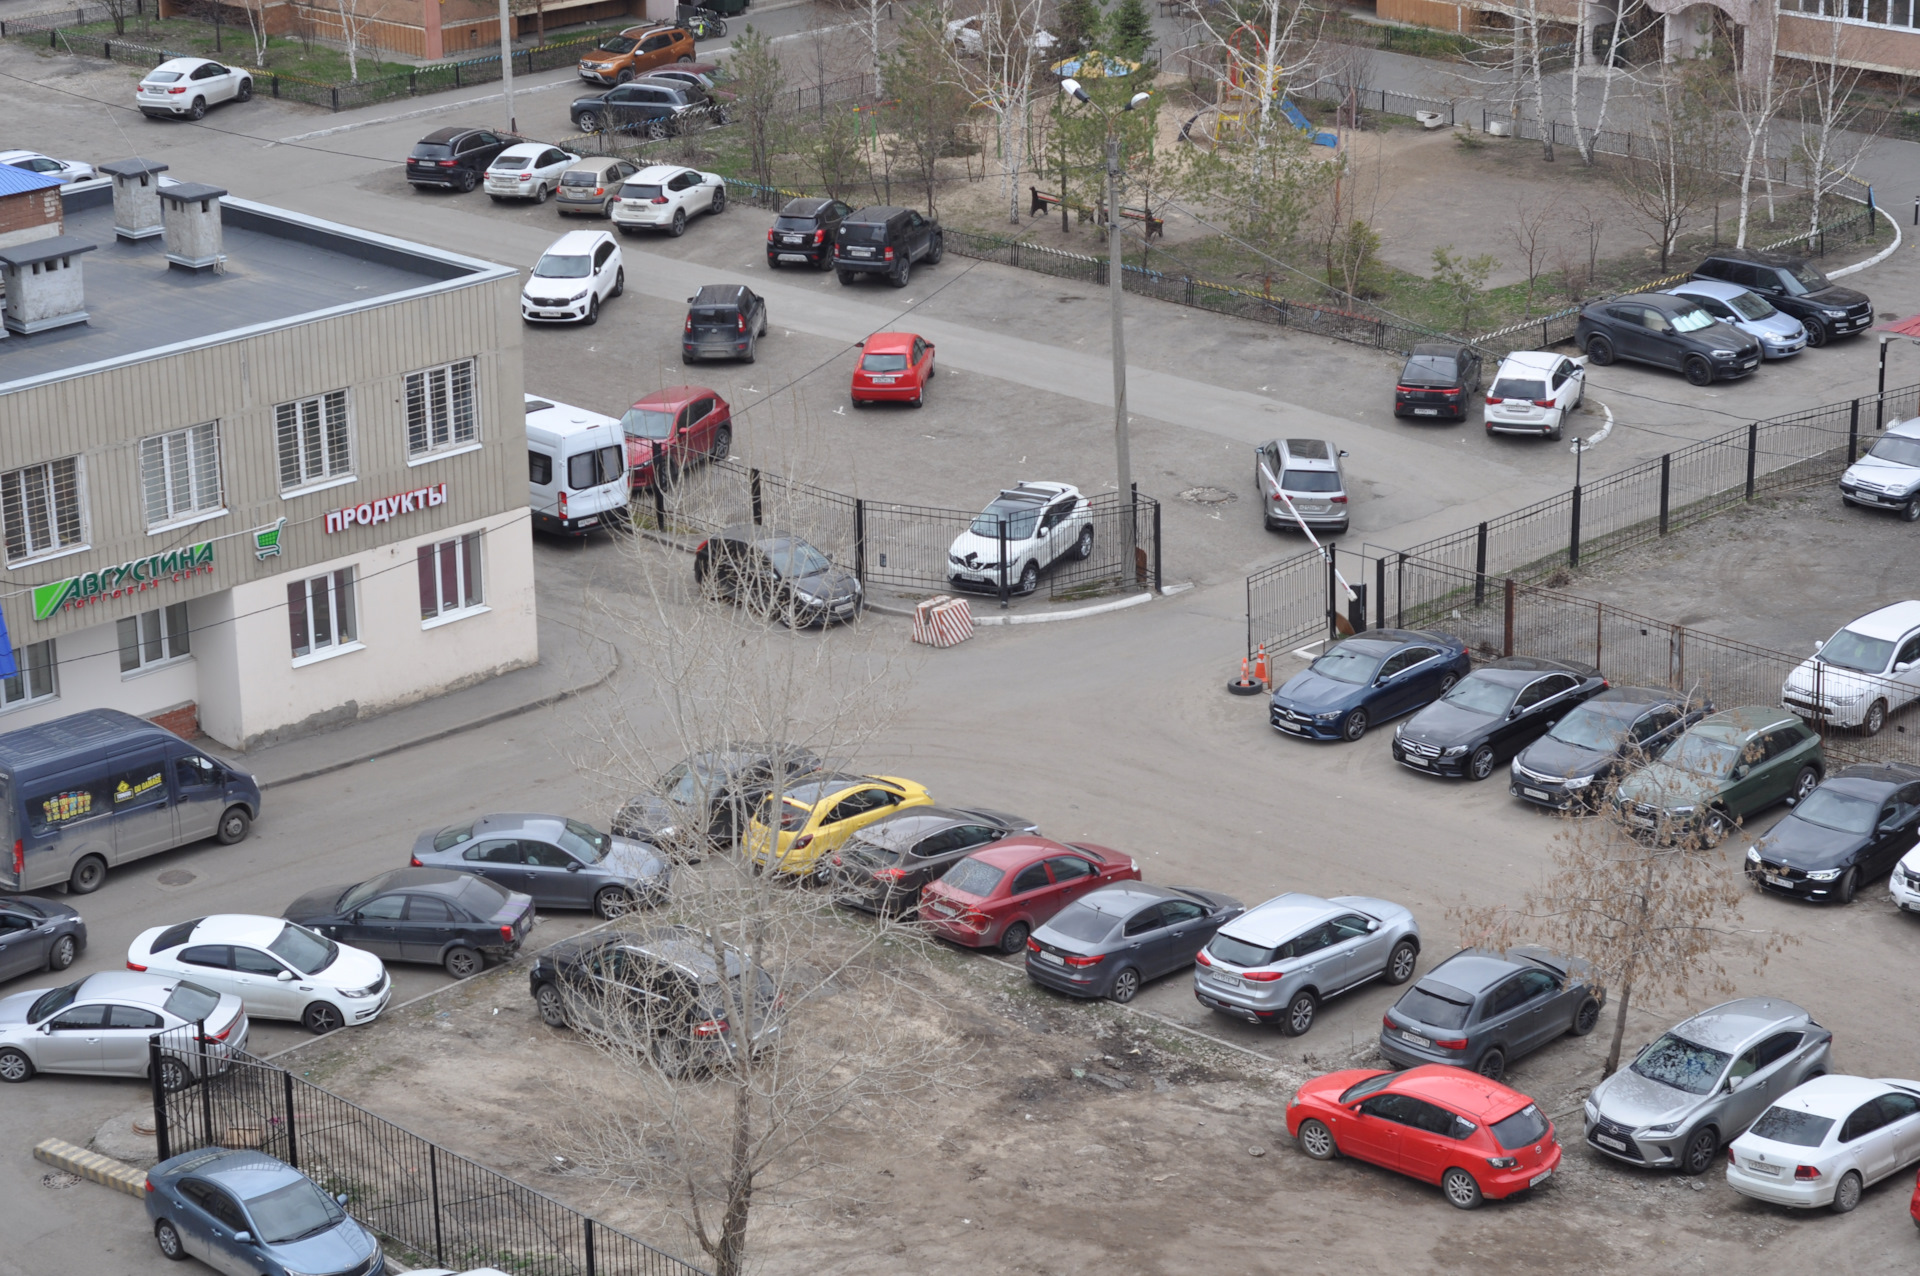Car: (0, 709, 261, 893), (1584, 997, 1831, 1174), (1286, 1067, 1562, 1209), (529, 924, 783, 1075), (1194, 893, 1422, 1036), (125, 914, 391, 1033), (146, 1148, 384, 1276), (0, 972, 249, 1091), (1380, 947, 1606, 1078), (284, 859, 533, 977), (1617, 706, 1826, 846), (409, 813, 670, 918), (1392, 656, 1609, 780), (1025, 880, 1243, 1003), (1727, 1075, 1920, 1212), (920, 836, 1140, 954), (1509, 686, 1711, 812), (1744, 763, 1920, 902), (613, 742, 822, 859), (828, 805, 1037, 916), (1267, 629, 1470, 741), (745, 773, 931, 876), (1781, 600, 1920, 737), (941, 480, 1096, 596), (692, 526, 865, 627), (1693, 250, 1873, 345), (1577, 295, 1760, 385), (524, 395, 630, 534), (623, 385, 733, 490), (1667, 280, 1809, 359), (520, 230, 626, 323), (1484, 350, 1587, 439), (1254, 437, 1350, 532), (834, 206, 944, 286), (571, 79, 716, 138), (1840, 417, 1920, 520), (630, 63, 764, 123), (613, 165, 727, 235), (0, 894, 89, 983), (405, 126, 523, 191), (136, 56, 255, 119), (1394, 338, 1484, 419), (578, 24, 696, 84), (681, 283, 768, 362), (850, 332, 936, 407), (765, 198, 851, 270), (943, 13, 1062, 63), (484, 142, 582, 201), (555, 157, 642, 217), (0, 150, 94, 184), (1889, 836, 1920, 914), (1907, 1171, 1920, 1228)
